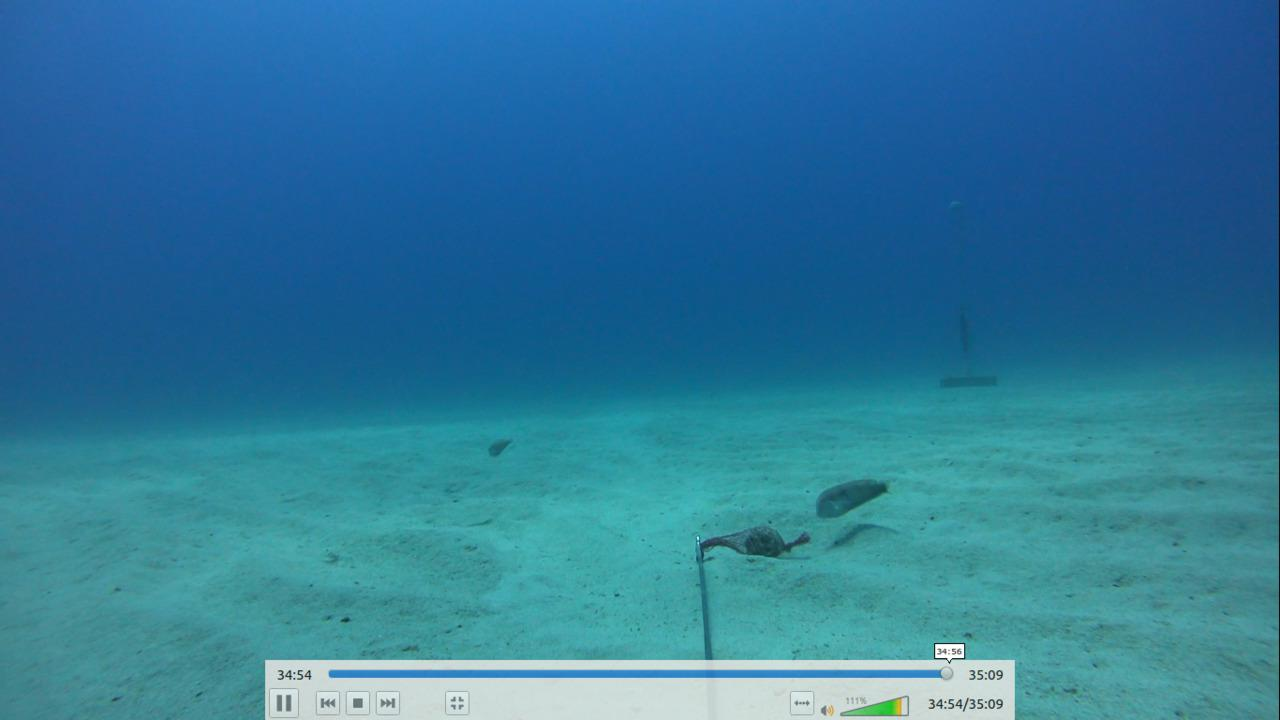raor: (810, 468, 893, 524), (478, 432, 526, 463)
